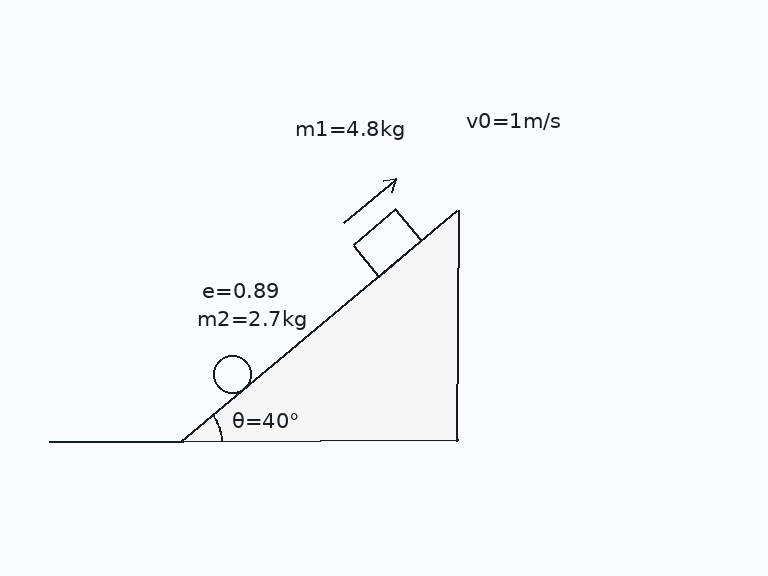ball: (211, 353, 253, 395)
block: (350, 207, 423, 278)
ramp: (180, 208, 460, 443)
